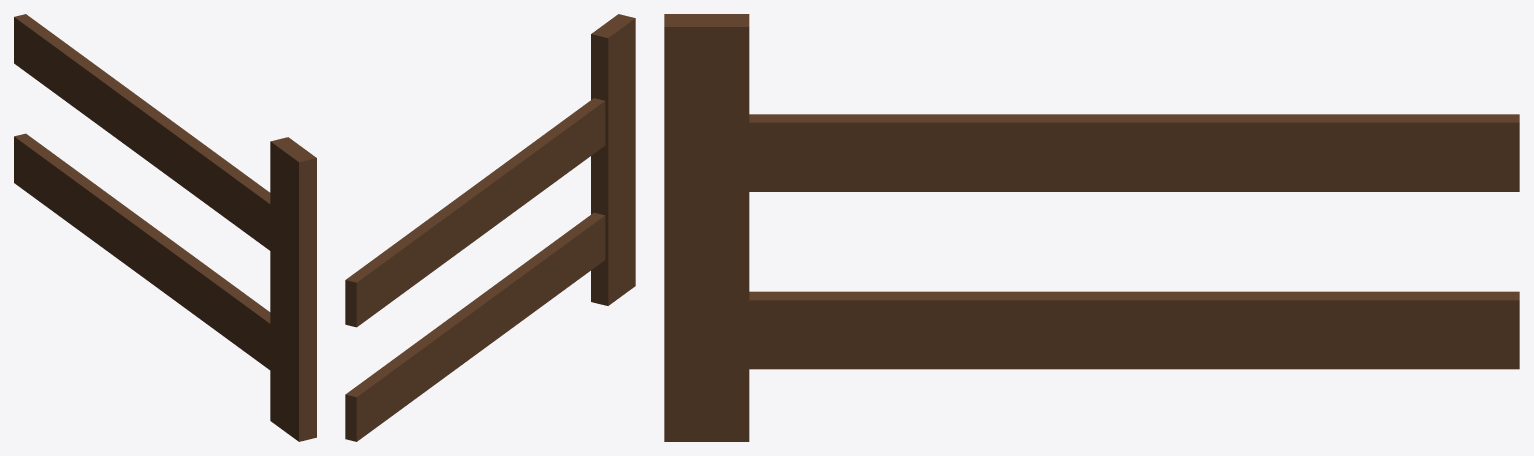
The model's file is cpsMap_Woodfence.obj.
The picture shows the model from 3 angles, left to right: view 1: azimuth 30°, elevation 25°; view 2: azimuth 150°, elevation 25°; view 3: azimuth 270°, elevation 25°; orthographic projection. The views are drawn at different scales.
Parts seen in each view (by area): view 1: Woodfence.007_Fence_1_Start_1_Mesh.006; view 2: Woodfence.007_Fence_1_Start_1_Mesh.006; view 3: Woodfence.007_Fence_1_Start_1_Mesh.006.
Boxes of the visible parts, x1,y1,x2,y2 form: Woodfence.007_Fence_1_Start_1_Mesh.006: [14, 14, 316, 441]; Woodfence.007_Fence_1_Start_1_Mesh.006: [345, 14, 635, 441]; Woodfence.007_Fence_1_Start_1_Mesh.006: [664, 14, 1519, 441].
Size of the model in its own units: 0.1782 by 2.67 by 4.99.
